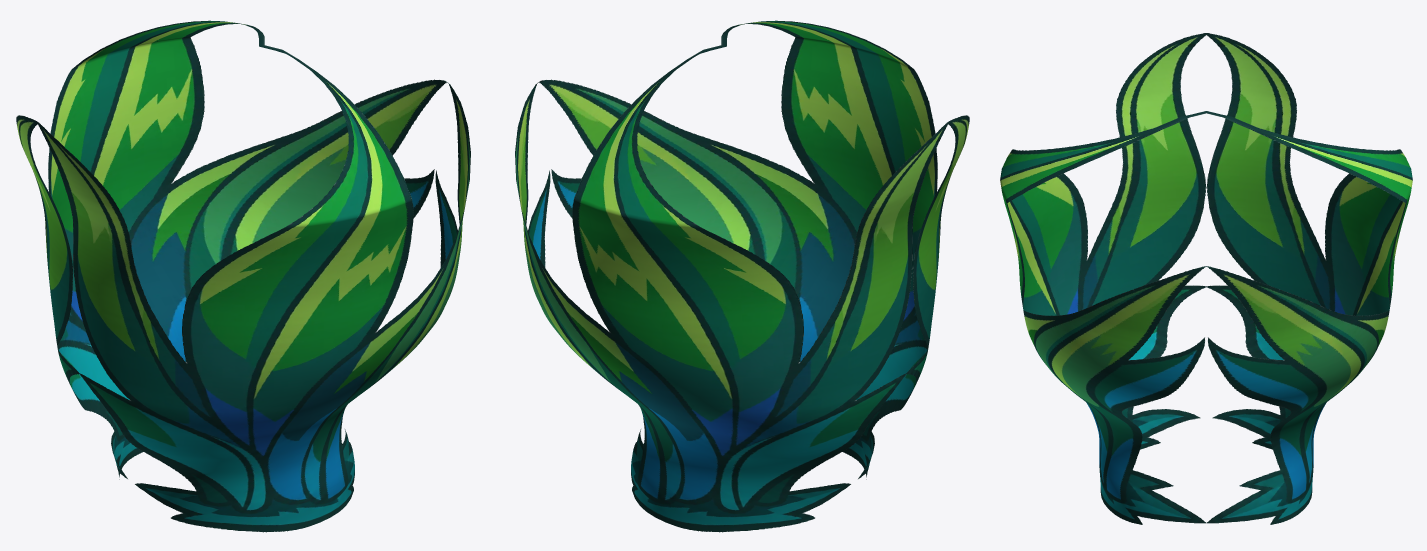
Rendered from blade_rosette.glb.
The picture shows the model from 3 angles, left to right: view 1: azimuth 30°, elevation 25°; view 2: azimuth 150°, elevation 25°; view 3: azimuth 270°, elevation 25°; orthographic projection. The views are drawn at different scales.
Parts seen in each view (by area): view 1: blade_rosette; view 2: blade_rosette; view 3: blade_rosette.
Boxes of the visible parts, bbox=[...] form: blade_rosette: bbox=[16, 20, 470, 532]; blade_rosette: bbox=[515, 20, 969, 532]; blade_rosette: bbox=[1000, 33, 1412, 524].
Size of the model in its own units: 1 by 1.02 by 0.9705.
1 material, 1 textured.
